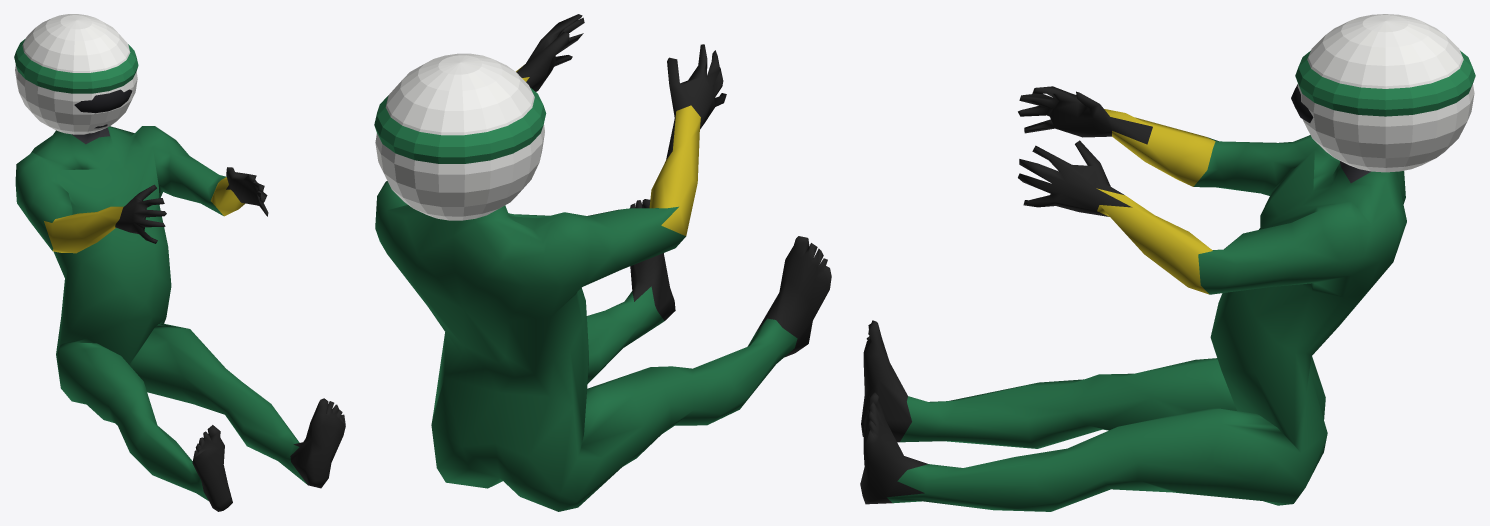
Rendered from driver_31.glb.
The picture shows the model from 3 angles, left to right: view 1: azimuth 30°, elevation 25°; view 2: azimuth 150°, elevation 25°; view 3: azimuth 270°, elevation 25°; orthographic projection. The views are drawn at different scales.
Parts seen in each view (by area): view 1: driver_31 people, driver_31; view 2: driver_31 people, driver_31; view 3: driver_31 people, driver_31.
Part boxes in pixels (bbox=[...]): driver_31 people: bbox=[15, 124, 345, 511]; driver_31: bbox=[14, 14, 138, 134]; driver_31 people: bbox=[375, 14, 831, 511]; driver_31: bbox=[374, 53, 546, 220]; driver_31 people: bbox=[860, 86, 1406, 511]; driver_31: bbox=[1291, 14, 1475, 172].
Size of the model in its own units: 0.5243 by 0.9272 by 1.12.
